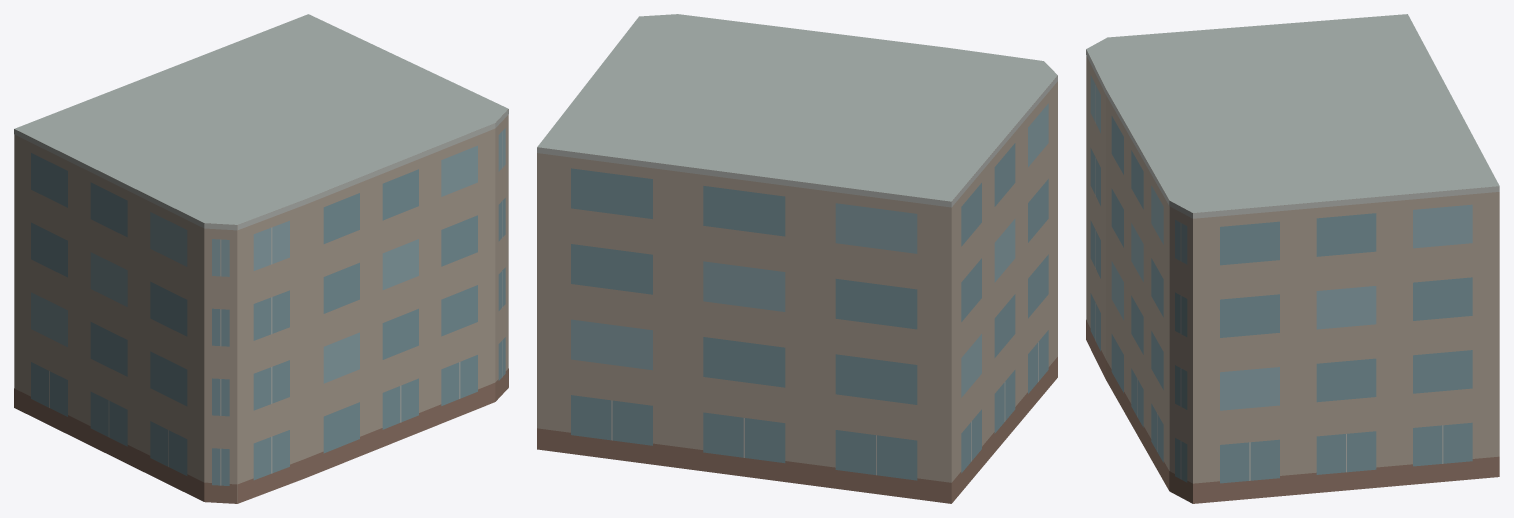
The model's file is survey-upis-32772845.glb.
The picture shows the model from 3 angles, left to right: view 1: azimuth 30°, elevation 25°; view 2: azimuth 150°, elevation 25°; view 3: azimuth 270°, elevation 25°; orthographic projection. The views are drawn at different scales.
Visible parts, largest first — view 1: survey-upis-32772845.tmp; view 2: survey-upis-32772845.tmp; view 3: survey-upis-32772845.tmp.
Part boxes in pixels (x1,y1,x2,y2): survey-upis-32772845.tmp: [14, 14, 508, 503]; survey-upis-32772845.tmp: [537, 14, 1057, 503]; survey-upis-32772845.tmp: [1086, 14, 1499, 503].
Size of the model in its own units: 18.41 by 12.53 by 16.16.
